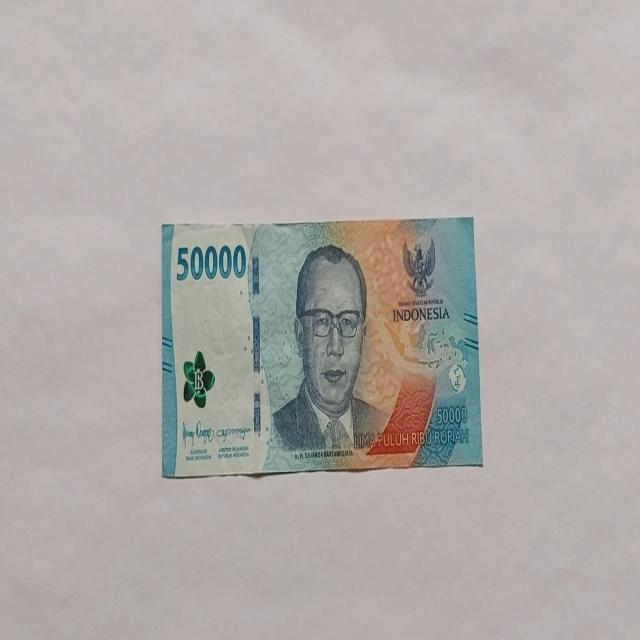lima puluh ribu rupiah: (161, 216, 484, 478), (268, 242, 388, 458)
